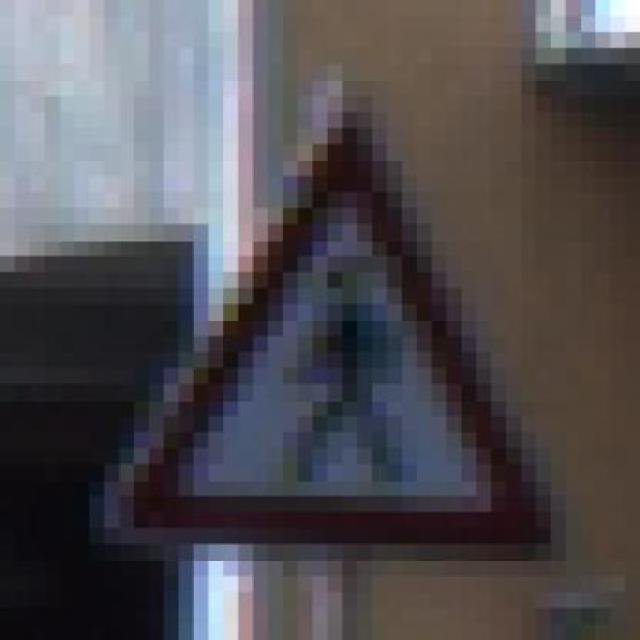Pedestrian Crossing: (104, 48, 565, 544)
